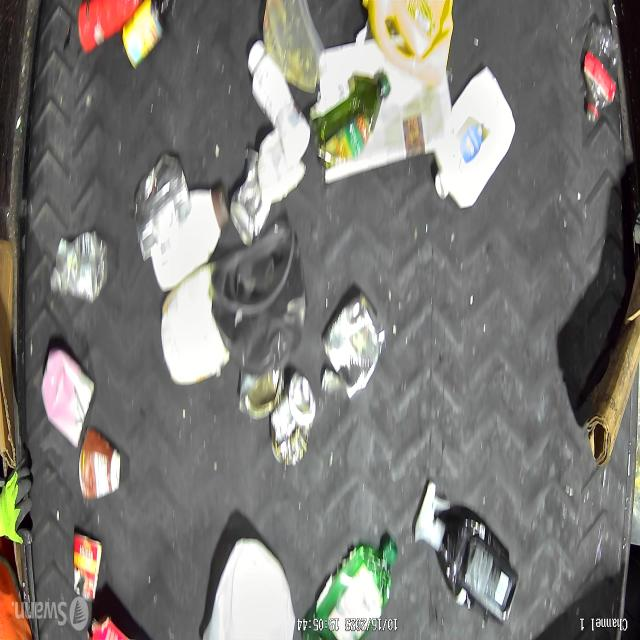can: (323, 295, 384, 401), (42, 348, 94, 449), (270, 371, 317, 467), (229, 148, 270, 246), (122, 0, 165, 75), (237, 369, 285, 421), (72, 533, 102, 603)
milk_jug: (433, 66, 515, 208), (202, 538, 295, 640)
non_white_jug: (211, 220, 308, 374), (413, 483, 517, 625), (361, 0, 454, 89)
plastic_bottle: (49, 230, 109, 305), (582, 24, 620, 129)
